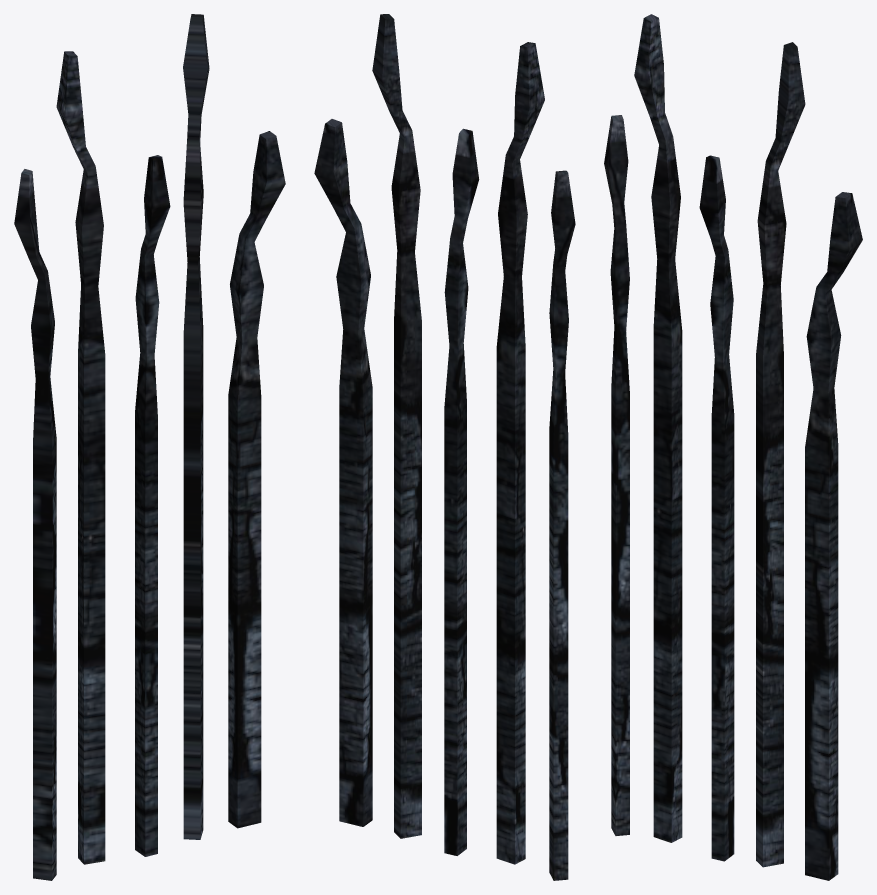
File: wall_01-2.fbx
3 renders of one model, left to right at view 1: azimuth 30°, elevation 25°; view 2: azimuth 150°, elevation 25°; view 3: azimuth 330°, elevation 25°, orthographic.
Visible parts, largest first — view 1: wall_01; view 2: wall_01; view 3: wall_01.
Boxes of the visible parts, x1,y1,x2,y2 form: wall_01: [14, 14, 285, 880]; wall_01: [314, 14, 575, 880]; wall_01: [604, 14, 862, 880].
Size of the model in its own units: 75.74 by 229 by 15.95.
Materials: 1 (1 with a texture image).
